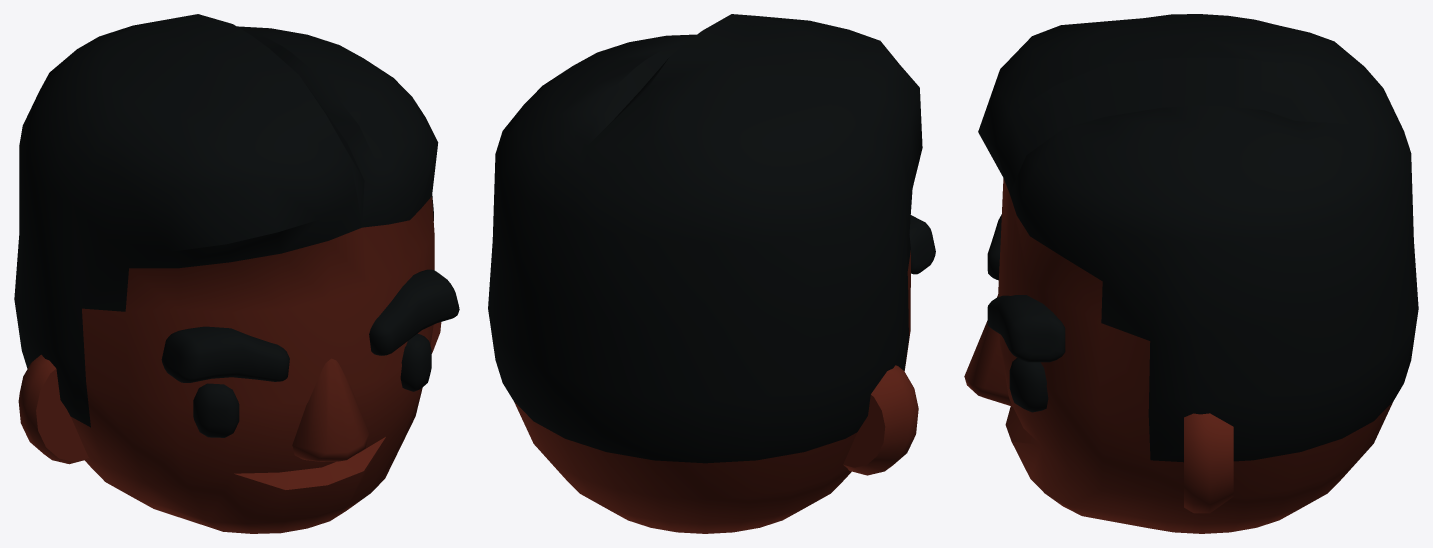
Rendered from knightHeadA.obj.
3 views of the same model, side by side, from view 1: azimuth 30°, elevation 25°; view 2: azimuth 150°, elevation 25°; view 3: azimuth 270°, elevation 25° (orthographic).
Parts seen in each view (by area): view 1: knightHeadA_Cube.3514; view 2: knightHeadA_Cube.3514; view 3: knightHeadA_Cube.3514.
Boxes of the visible parts, bbox=[...] form: knightHeadA_Cube.3514: bbox=[14, 14, 459, 533]; knightHeadA_Cube.3514: bbox=[488, 14, 935, 533]; knightHeadA_Cube.3514: bbox=[964, 14, 1418, 533].
Size of the model in its own units: 1.18 by 1.19 by 1.11.
